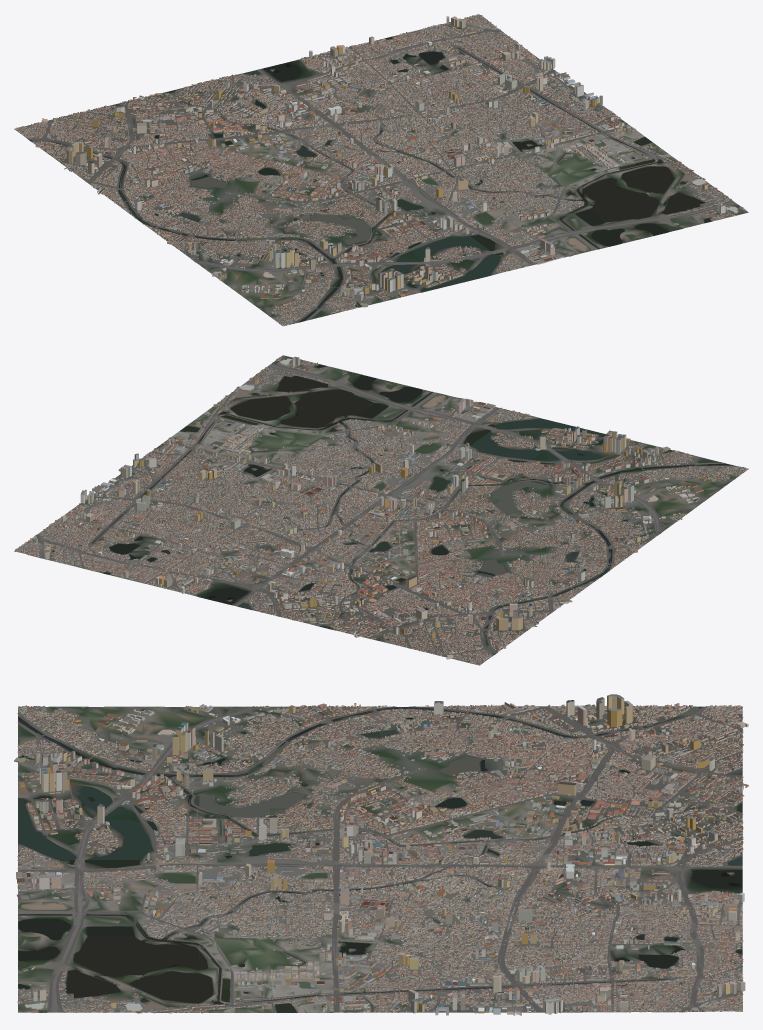
3 renders of one model, top to bottom at view 1: azimuth 30°, elevation 25°; view 2: azimuth 150°, elevation 25°; view 3: azimuth 270°, elevation 25°, orthographic. The views are drawn at different scales.
Visible parts, largest first — view 1: buildings, ground, roads, water; view 2: buildings, ground, roads, water; view 3: buildings, ground, roads, water.
Boxes of the visible parts, x1,y1,x2,y2 form: buildings: (15,14,745,325); ground: (14,16,748,326); roads: (26,24,739,323); water: (30,36,740,322); buildings: (15,356,748,664); ground: (14,355,748,665); roads: (14,362,738,656); water: (93,361,733,654); buildings: (14,694,748,1015); ground: (18,706,742,1012); roads: (17,706,743,1013); water: (18,706,742,1012).
Size of the model in its own units: 5711 by 180 by 5687.
